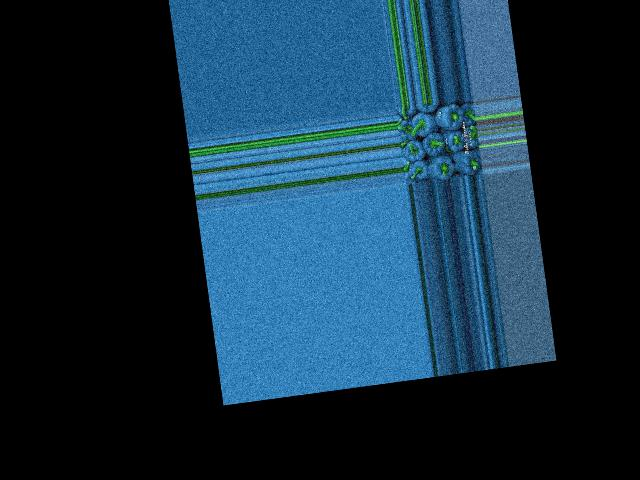bell_pepper: (457, 99, 477, 128)
